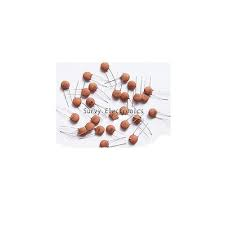ceramic capacitor: (95, 60, 120, 75), (64, 109, 82, 126), (143, 106, 163, 121), (125, 131, 142, 148), (60, 78, 75, 93)
